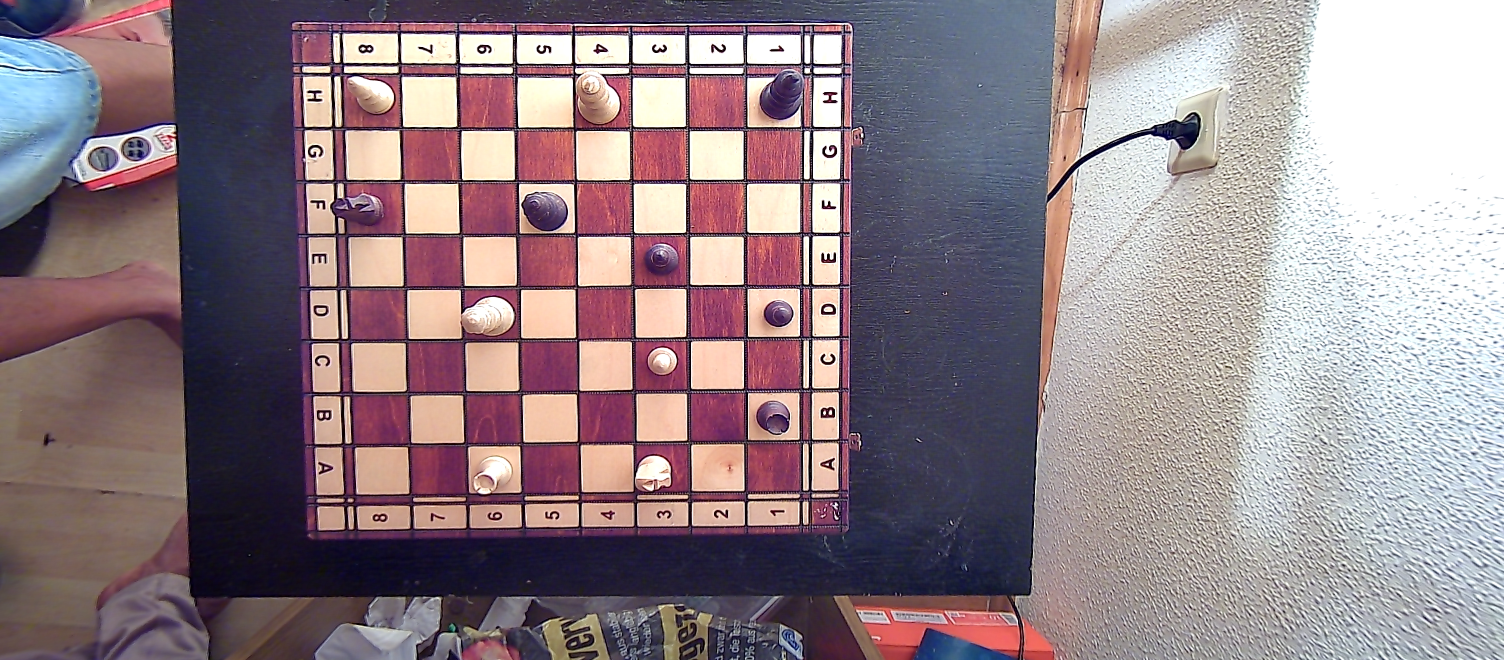black-bishop: (641, 241, 680, 278)
black-king: (757, 66, 807, 122)
black-knight: (326, 190, 386, 228)
black-pawn: (762, 297, 795, 329)
black-queen: (522, 187, 570, 231)
black-rook: (754, 396, 795, 437)
white-bishop: (343, 72, 395, 116)
white-king: (572, 69, 620, 126)
white-knight: (633, 452, 676, 496)
white-pawn: (643, 342, 679, 377)
white-queen: (461, 295, 517, 339)
white-rook: (470, 452, 515, 496)
